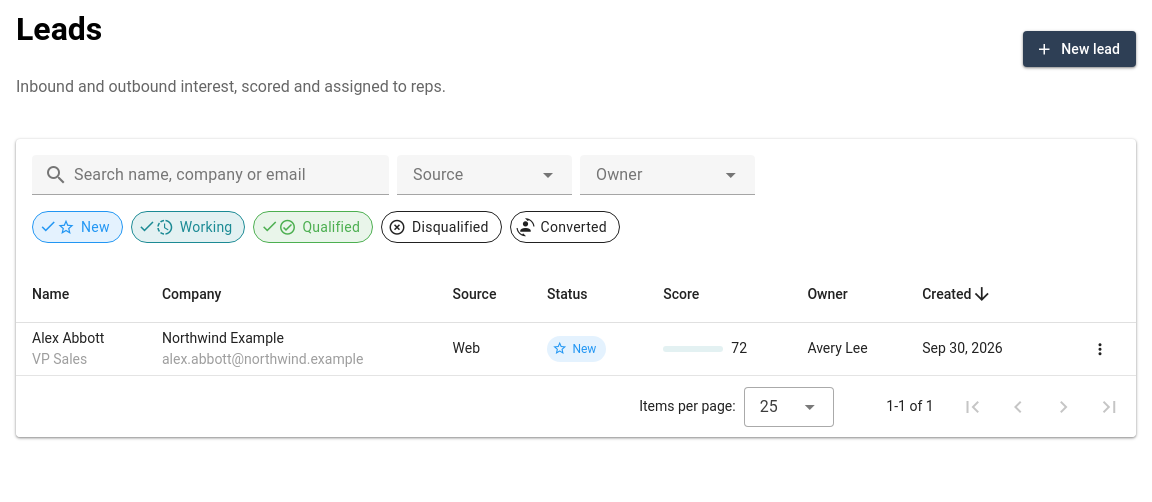
Scenario: LeadsView › offers Clear filters with the message when a search matches nothing
Step 1. Type "zzz" into the field labelled "Search name, company or email" → (223, 175), box top-left (68, 155), bottom-right (377, 195)
Wait 300 ms
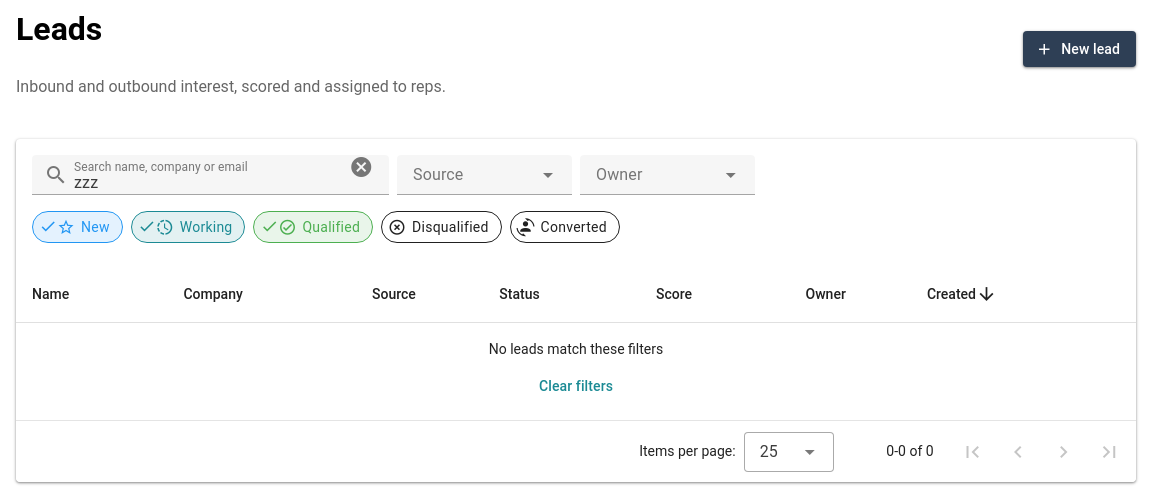
Result: the text "No leads match these filters" is shown at top-left (489, 341), bottom-right (663, 357)
Result: the button with test id "clear-filters" reads "Clear filters" at top-left (523, 368), bottom-right (629, 404)
